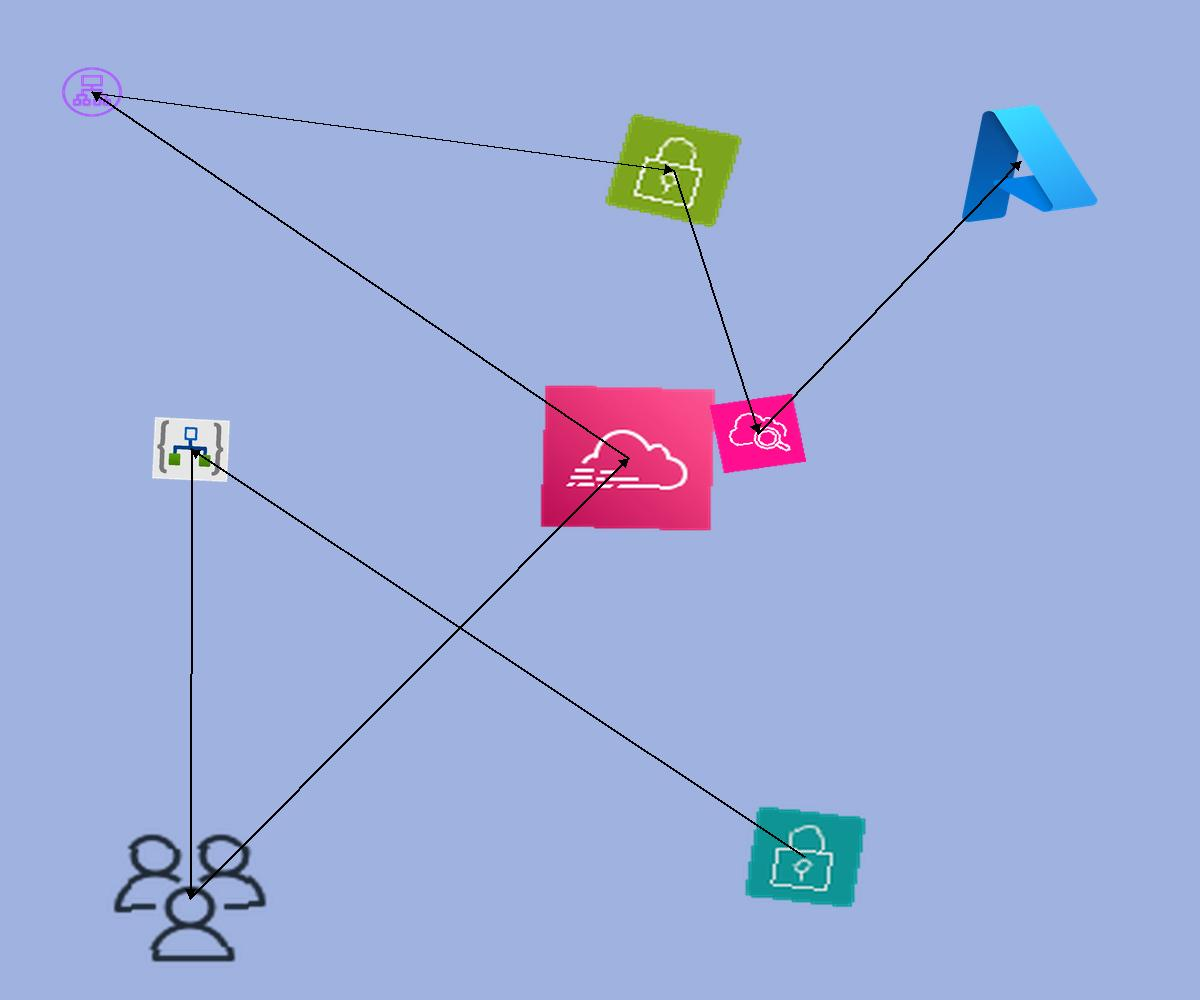AWS-CloudTrail: (539, 384, 717, 532)
AWS-CloudWatch: (709, 393, 807, 474)
AWS-Private-subnet: (743, 805, 868, 909)
AWS-Public-subnet: (603, 112, 744, 229)
AWS-Res_Elastic-Load-Balancing_Application-Load-Balancer: (58, 64, 126, 120)
AWS-Res_Users: (104, 826, 276, 970)
Azure_integration-204-Logic-Apps: (152, 417, 230, 482)
Azure_services: (935, 90, 1106, 232)
